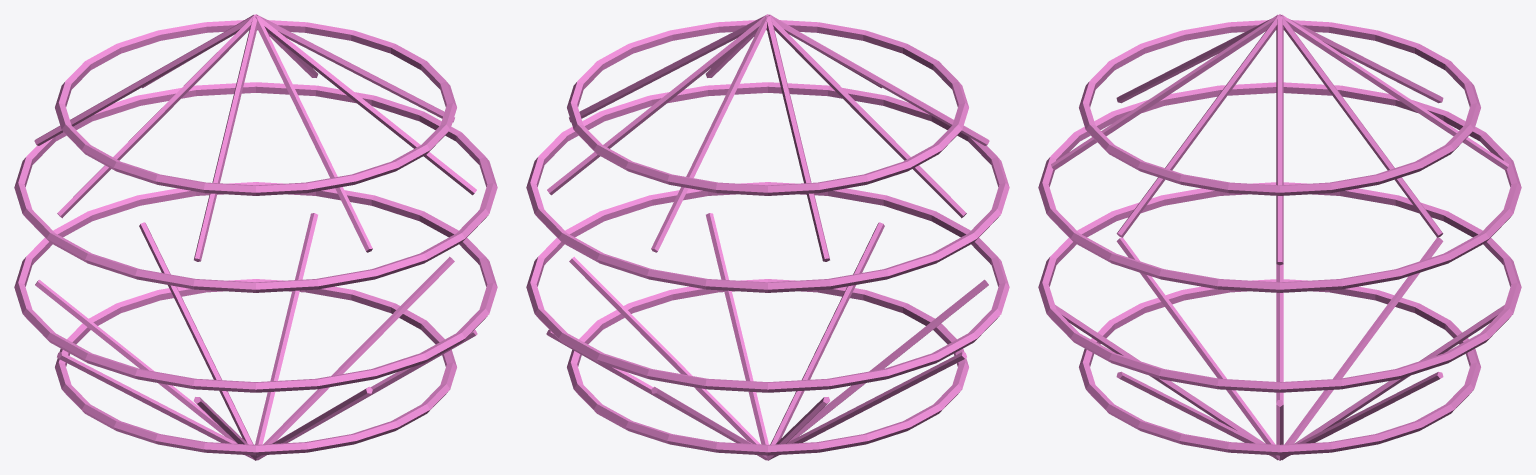
The model's file is holograma_esfera.glb.
The picture shows the model from 3 angles, left to right: view 1: azimuth 30°, elevation 25°; view 2: azimuth 150°, elevation 25°; view 3: azimuth 270°, elevation 25°; orthographic projection.
Visible parts, largest first — view 1: holograma_esfera; view 2: holograma_esfera; view 3: holograma_esfera.
Part boxes in pixels (x1,y1,x2,y2): holograma_esfera: [14, 14, 497, 460]; holograma_esfera: [526, 14, 1009, 460]; holograma_esfera: [1038, 14, 1521, 460].
Size of the model in its own units: 2.19 by 2.23 by 2.19.
